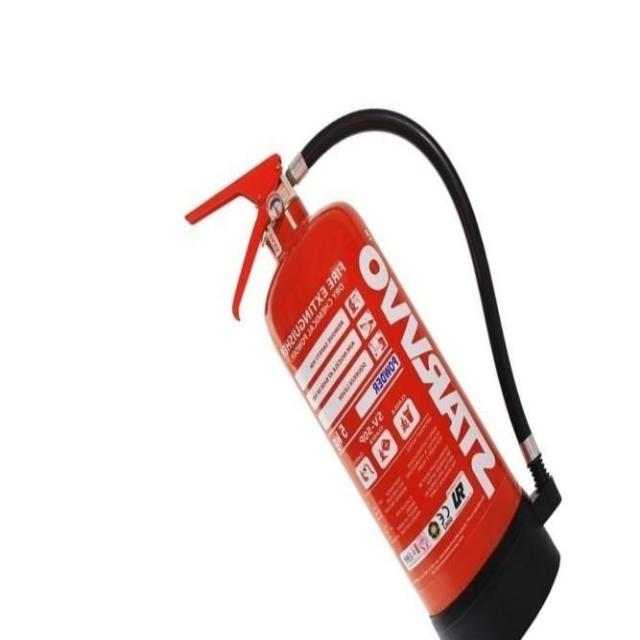fire_extinguisher: (179, 102, 568, 639)
